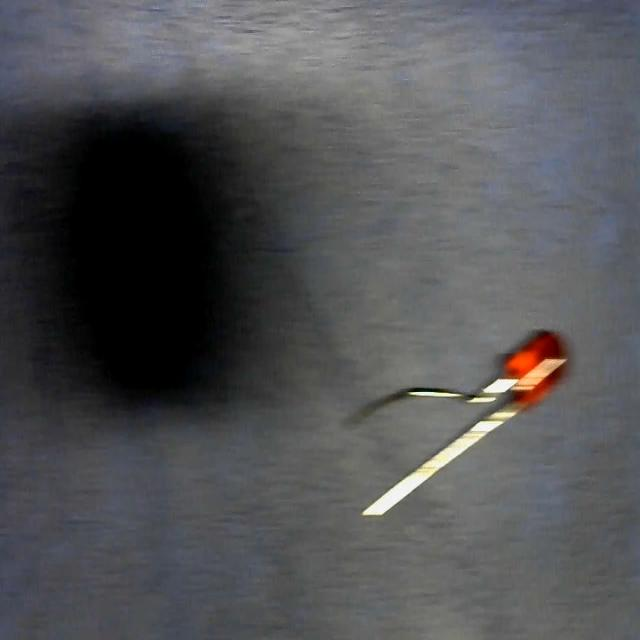LED: (355, 331, 571, 519)
